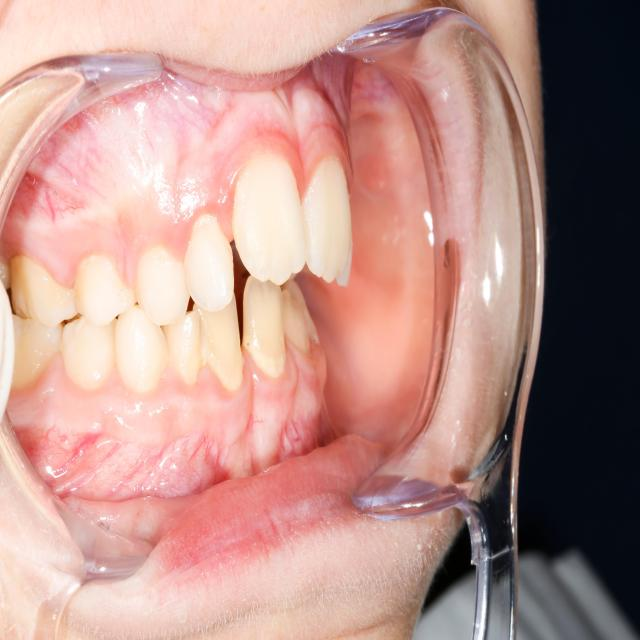Tooth: (232, 155, 307, 286), (301, 159, 352, 284), (10, 255, 78, 329), (193, 291, 242, 391), (184, 215, 234, 312), (115, 304, 169, 393), (73, 255, 137, 326), (242, 275, 286, 377), (135, 245, 191, 325), (61, 315, 118, 389), (161, 310, 201, 384)
